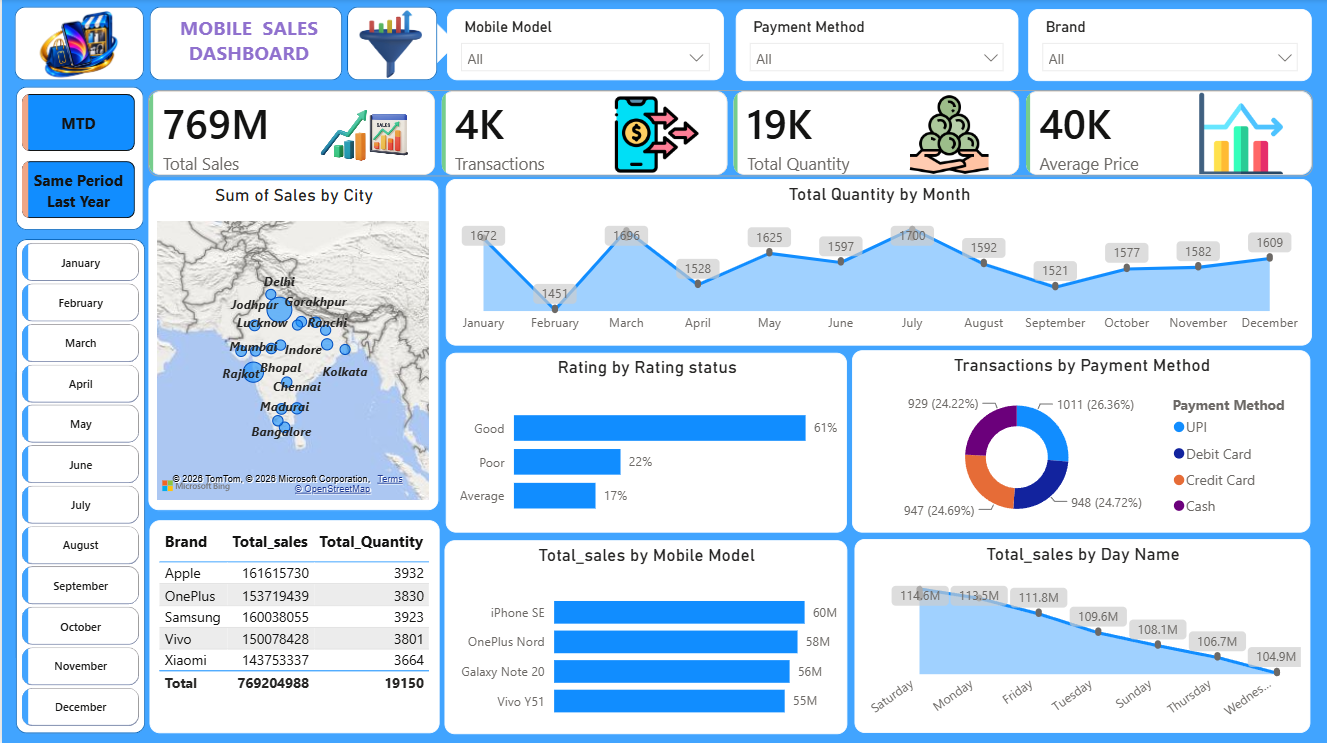

What the dashboard file says about the page in this screenshot:
{"tool":"powerbi","page":{"name":"Dashboard","canvas":[1280,720],"ordinal":0},"visuals":[{"type":"shape","box":[375.4,13.5,64.1,59],"z":0},{"type":"shape","box":[11.7,7,125,71.4],"z":1000},{"type":"slicer","title":"Mobile Brand","fields":{"Values":["Sales_data.Mobile Model"]},"box":[429.9,9.4,267.1,68.6],"z":2000},{"type":"image","box":[21,120.5,118.7,63.1],"z":3000},{"type":"slicer","title":"Mobile Brand","fields":{"Values":["Sales_data.Payment Method"]},"box":[707.9,9.4,272.6,69.9],"z":4000},{"type":"shape","box":[13.1,84.1,123.6,138.6],"z":5000},{"type":"slicer","title":"Mobile Brand","fields":{"Values":["Sales_data.Brand"]},"box":[990,9.4,273.9,69.9],"z":6000},{"type":"shape","box":[13.1,231.3,125,477.3],"z":7000},{"type":"advancedSlicerVisual","fields":{"Values":["Custom_Calender.Date.Variation.Date Hierarchy.Month"]},"box":[14.5,230.3,123.1,486.2],"z":8000},{"type":"shape","box":[333.1,6.7,87.2,71.3],"z":9000},{"type":"cardVisual","fields":{"Data":["Sales_data.Total_sales","Sales_data.Transcations","Sales_data.Total_Quantity","Sales_data.Average_price"]},"box":[129.6,75.5,1150.4,107.2],"z":10000},{"type":"image","box":[329,9.4,91.3,68.6],"z":11000},{"type":"shape","box":[142.3,7,186.1,71.4],"z":12000},{"type":"image","box":[17.3,9.8,113.1,72.7],"z":13000},{"type":"textbox","box":[129.6,9.8,218.7,70],"z":14000},{"type":"map","fields":{"Category":["Sales_data.City"],"Size":["Sum(Sales_data.Sales)"]},"box":[141.6,174.9,280,318.4],"z":15000},{"type":"lineChart","title":"Total Quantity by Month","fields":{"Y":["Sales_data.Total_Quantity"],"Category":["Custom_Calender.Date.Variation.Date Hierarchy.Month"]},"box":[428.3,173.6,836.1,160.5],"z":16000},{"type":"clusteredBarChart","title":"Rating by Rating status","fields":{"Category":["Sales_data.Rating_status"],"Y":["Sales_data.Rating %"]},"box":[428.3,340.8,387.5,173.8],"z":17000},{"type":"donutChart","fields":{"Category":["Sales_data.Payment Method"],"Y":["Sales_data.Transcations"]},"box":[820.8,339.6,442.5,176.2],"z":18000},{"type":"clusteredBarChart","fields":{"Category":["Sales_data.Mobile Model"],"Y":["Sales_data.Total_sales"]},"box":[427.1,522.1,388.8,187.5],"z":19000},{"type":"areaChart","fields":{"Category":["Custom_Calender.Day Name"],"Y":["Sales_data.Total_sales"]},"box":[823.3,520.8,440,187.5],"z":20000},{"type":"tableEx","fields":{"Values":["Sales_data.Brand","Sales_data.Total_sales","Sales_data.Total_Quantity"]},"box":[142.3,502.8,279.8,205.8],"z":21000},{"type":"pageNavigator","box":[19,91.5,109.4,121.7],"z":22000}]}

Visuals, with their boxes in screenshot pixels (x1, y1, x2, y2), scaled from the page's 1280x720 canvas onto the 1327x743 screenshot:
shape: bbox(389, 14, 456, 75)
shape: bbox(12, 7, 142, 81)
"Mobile Brand" slicer: bbox(446, 10, 723, 80)
image: bbox(22, 124, 145, 189)
"Mobile Brand" slicer: bbox(734, 10, 1017, 82)
shape: bbox(14, 87, 142, 230)
"Mobile Brand" slicer: bbox(1026, 10, 1310, 82)
shape: bbox(14, 239, 143, 731)
advancedSlicerVisual - Custom_Calender.Date.Variation.Date Hierarchy.Month: bbox(15, 238, 143, 739)
shape: bbox(345, 7, 436, 80)
cardVisual - Sales_data.Total_sales x Sales_data.Transcations: bbox(134, 78, 1326, 189)
image: bbox(341, 10, 436, 80)
shape: bbox(148, 7, 340, 81)
image: bbox(18, 10, 135, 85)
textbox: bbox(134, 10, 361, 82)
map - Sales_data.City x Sum(Sales_data.Sales): bbox(147, 180, 437, 509)
"Total Quantity by Month" lineChart: bbox(444, 179, 1311, 345)
"Rating by Rating status" clusteredBarChart: bbox(444, 352, 846, 531)
donutChart - Sales_data.Payment Method x Sales_data.Transcations: bbox(851, 350, 1310, 532)
clusteredBarChart - Sales_data.Mobile Model x Sales_data.Total_sales: bbox(443, 539, 846, 732)
areaChart - Custom_Calender.Day Name x Sales_data.Total_sales: bbox(854, 537, 1310, 731)
tableEx - Sales_data.Brand x Sales_data.Total_sales: bbox(148, 519, 438, 731)
pageNavigator: bbox(20, 94, 133, 220)
